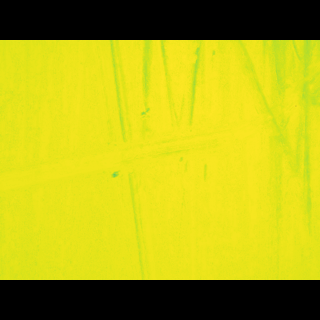Loch: (0, 122, 284, 190), (228, 69, 319, 250), (88, 69, 163, 251), (274, 80, 319, 134)
